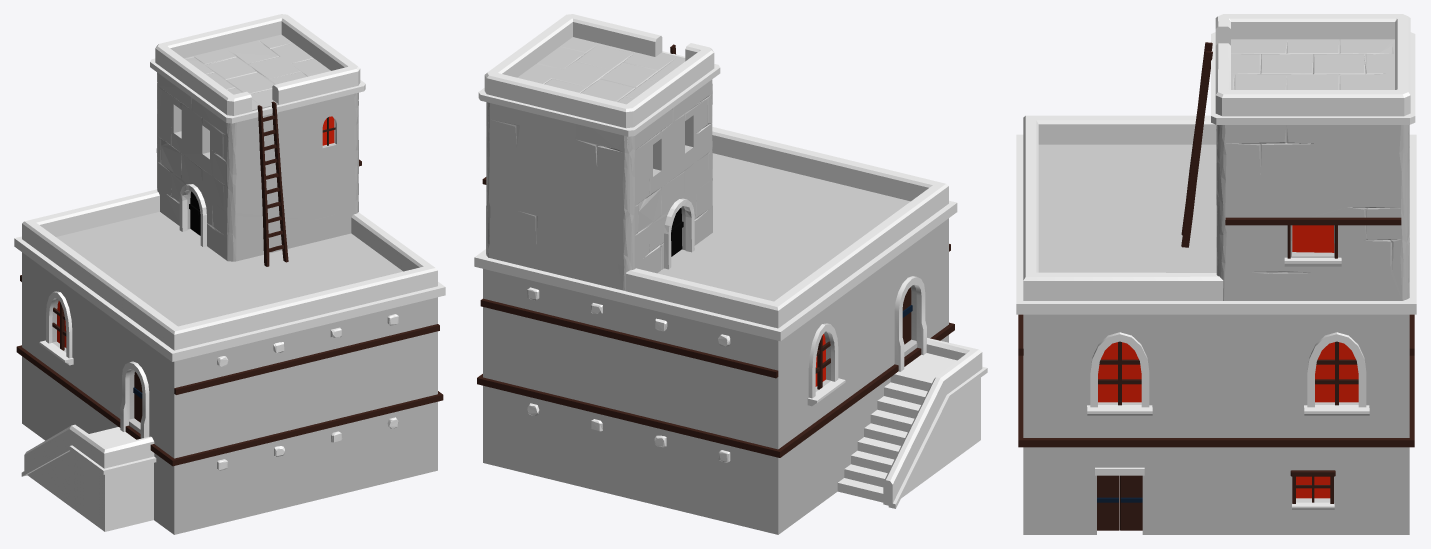
File: civilian_house_13.FBX
3 views of the same model, side by side, from view 1: azimuth 30°, elevation 25°; view 2: azimuth 150°, elevation 25°; view 3: azimuth 270°, elevation 25° (orthographic). The views are drawn at different scales.
Visible parts, largest first — view 1: civilian_house_13; view 2: civilian_house_13; view 3: civilian_house_13.
Boxes of the visible parts, x1,y1,x2,y2 form: civilian_house_13: [14, 14, 445, 534]; civilian_house_13: [474, 14, 987, 534]; civilian_house_13: [1016, 14, 1416, 534].
Bounding box in the file's own units: 1856 × 1896 × 1555.
